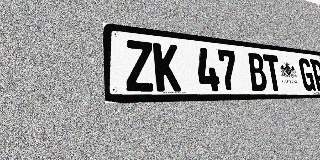4: (195, 47, 220, 91)
7: (216, 49, 240, 91)
B: (247, 52, 268, 91)
G: (298, 58, 316, 91)
K: (153, 42, 181, 91)
P: (310, 59, 320, 91)
T: (263, 54, 283, 91)
Z: (124, 39, 155, 91)
